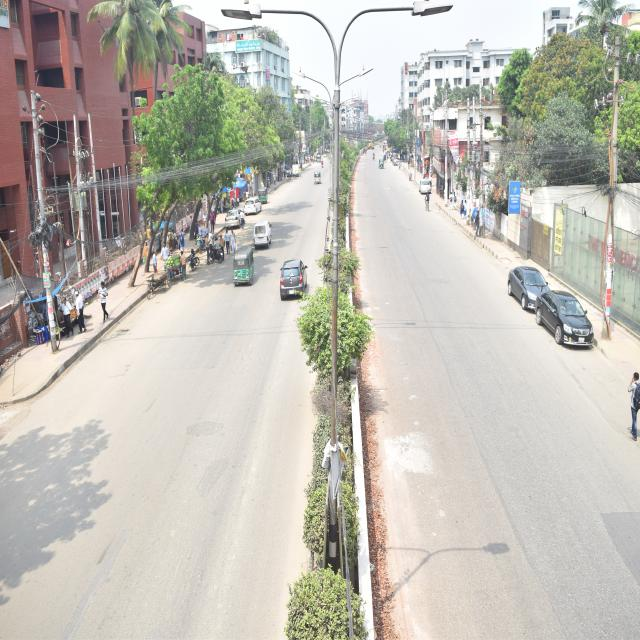car: (536, 280, 604, 360), (486, 246, 552, 312), (277, 253, 324, 311), (416, 167, 437, 208), (219, 204, 251, 230), (238, 192, 263, 219)
microbus: (246, 213, 280, 251)
motorbike: (204, 227, 227, 274), (185, 251, 206, 276), (372, 148, 377, 169)
pickup-van: (290, 158, 310, 187)
